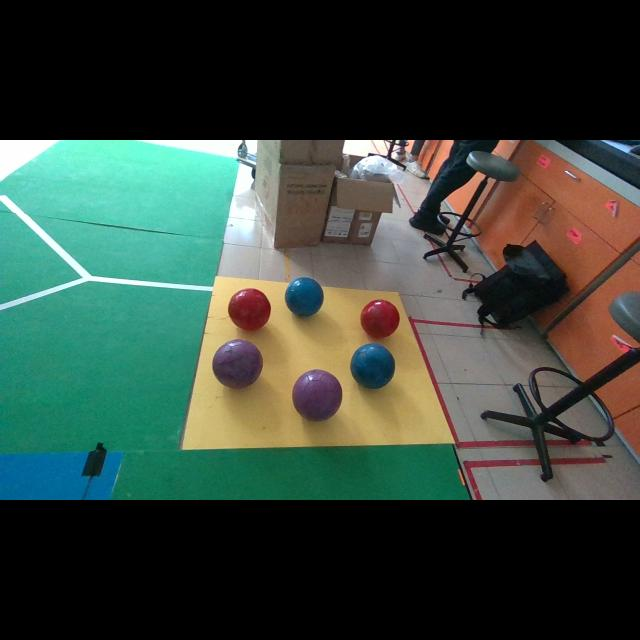B: (351, 344, 395, 388), (285, 279, 322, 316)
P: (292, 369, 342, 421), (212, 339, 262, 389)
R: (228, 289, 271, 331), (360, 300, 400, 339)
